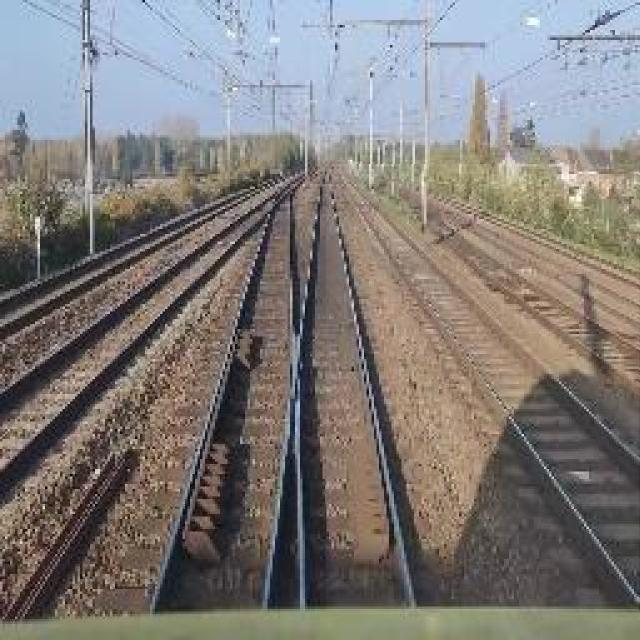rail: (1, 161, 431, 626), (328, 166, 640, 612)
